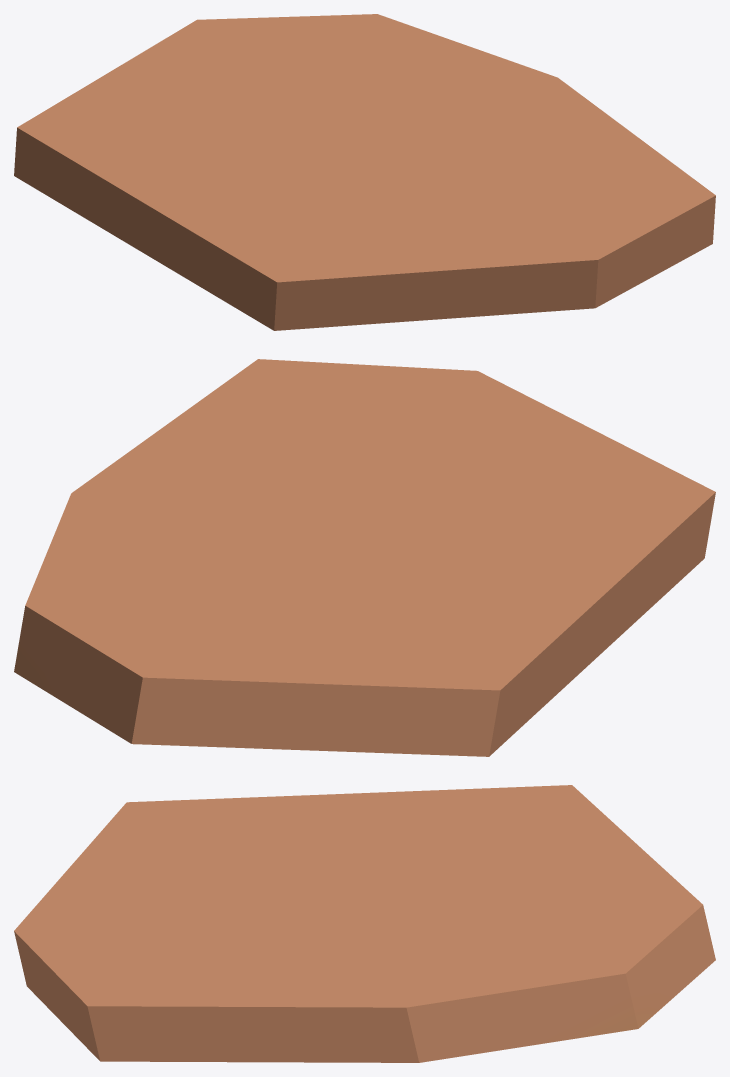
The model's file is gachsan_001.fbx.
3 renders of one model, top to bottom at view 1: azimuth 30°, elevation 25°; view 2: azimuth 150°, elevation 25°; view 3: azimuth 270°, elevation 25°, orthographic. The views are drawn at different scales.
Parts seen in each view (by area): view 1: gachsan_001; view 2: gachsan_001; view 3: gachsan_001.
Boxes of the visible parts, box(x1,y1,x2,y2) form: gachsan_001: box(14, 14, 715, 330); gachsan_001: box(14, 359, 715, 756); gachsan_001: box(14, 785, 715, 1062).
Size of the model in its own units: 86.38 by 9.86 by 115.
